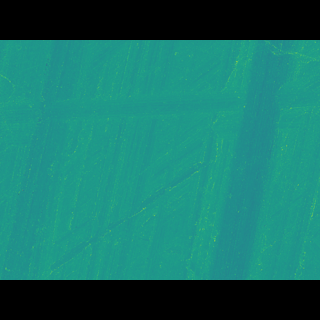Loch: (173, 70, 254, 251), (0, 94, 320, 136)
